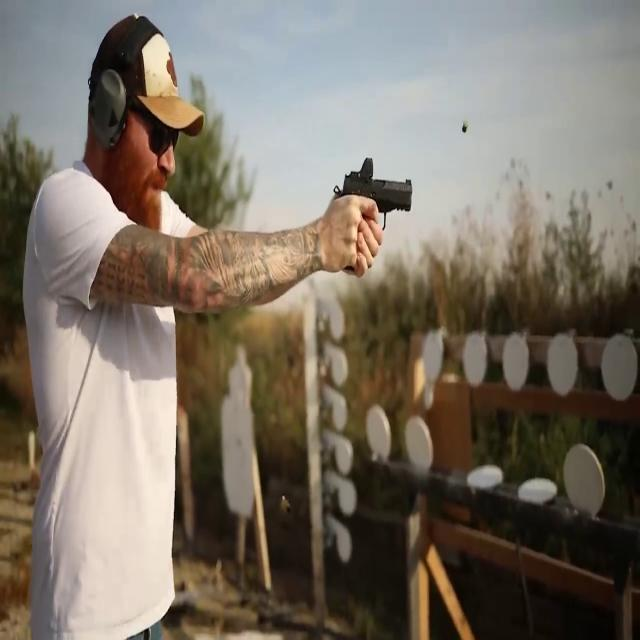Handgun: (336, 151, 418, 279)
